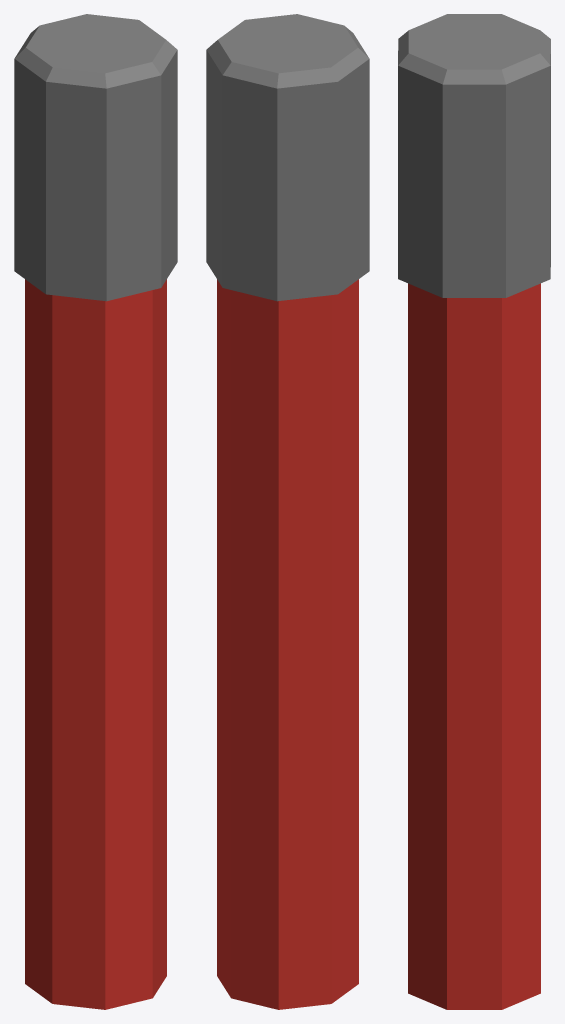
Rendered from Road_Flare.fbx.
3 renders of one model, left to right at view 1: azimuth 30°, elevation 25°; view 2: azimuth 150°, elevation 25°; view 3: azimuth 270°, elevation 25°, orthographic.
Parts seen in each view (by area): view 1: Road Flare; view 2: Road Flare; view 3: Road Flare.
Boxes of the visible parts, x1,y1,x2,y2 form: Road Flare: [14, 14, 177, 1009]; Road Flare: [206, 14, 369, 1009]; Road Flare: [398, 14, 550, 1009].
Bounding box in the file's own units: 78.41 × 533 × 78.41.
1 material, 1 textured.
